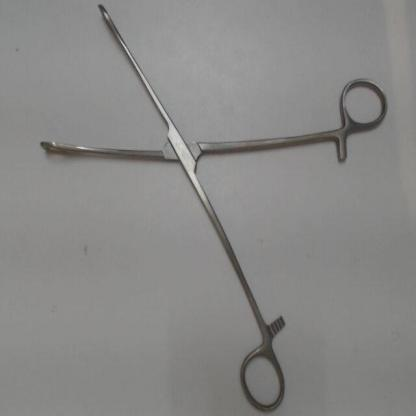Sponge Forceps: (29, 1, 393, 412)
